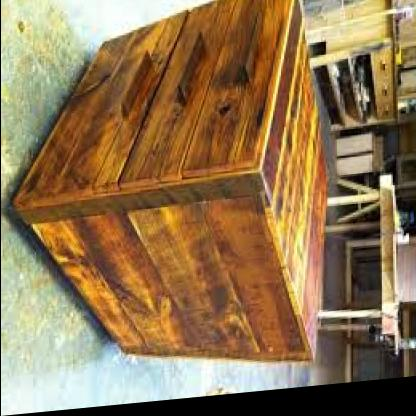Miscellaneous: (16, 0, 344, 385)
